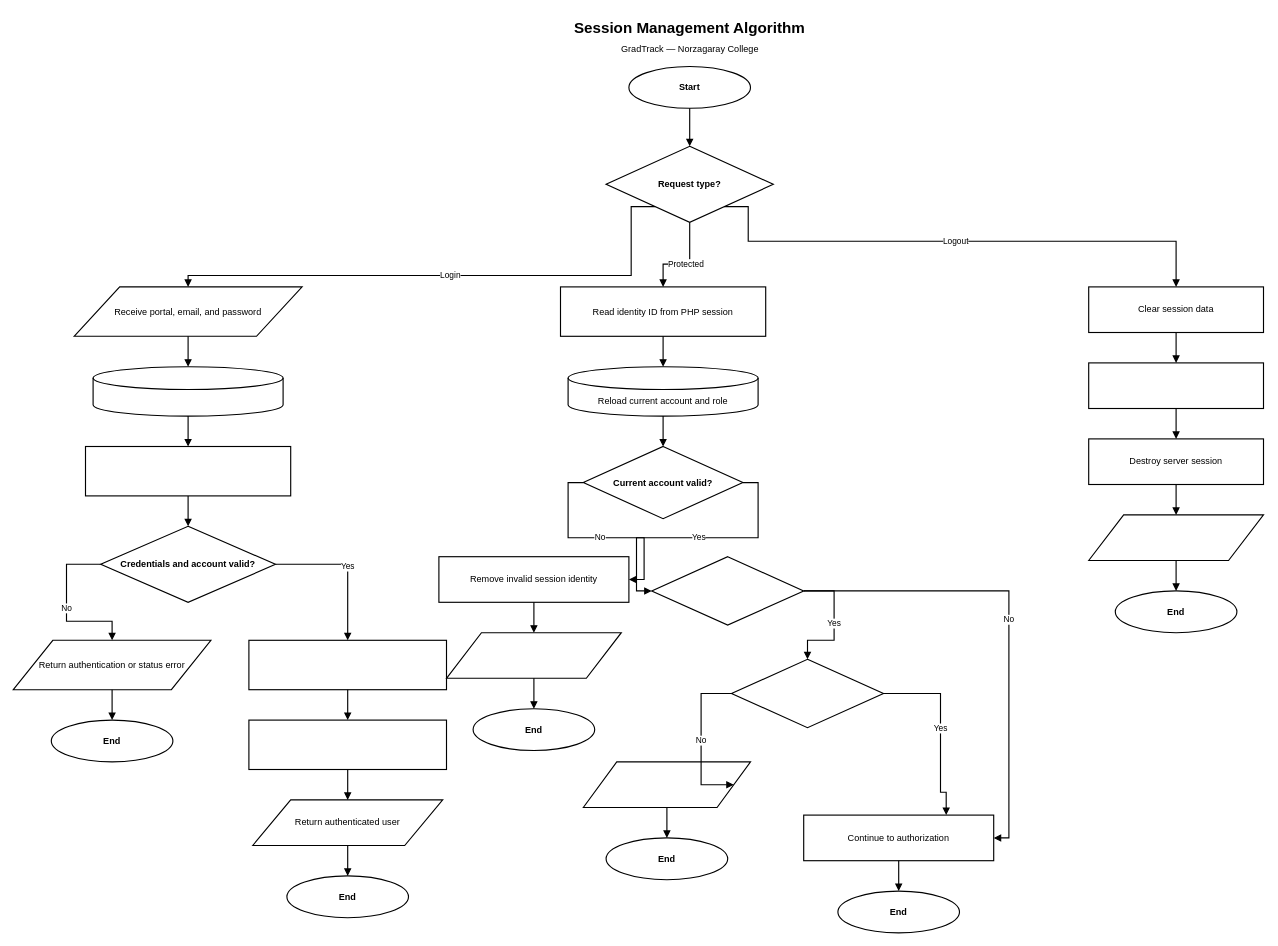
This 1278x946 diagram has some shape labels left out. The centre of each missing label's shape, as x and y in pixels:
"Clear session and rotate session ID" goes at point (347, 664).
"CSRF token matches?" goes at point (807, 693).
"Expire session cookie" goes at point (1176, 385).
"Load account" goes at point (187, 391).
"Return 401" goes at point (534, 655).
"Return 419" goes at point (666, 784).
"Return logout success" goes at point (1176, 537).
"Store identity ID and authenticated time" goes at point (347, 744).
"Unsafe request?" goes at point (727, 590).
"Verify adaptive password hash and account state" goes at point (188, 471).
